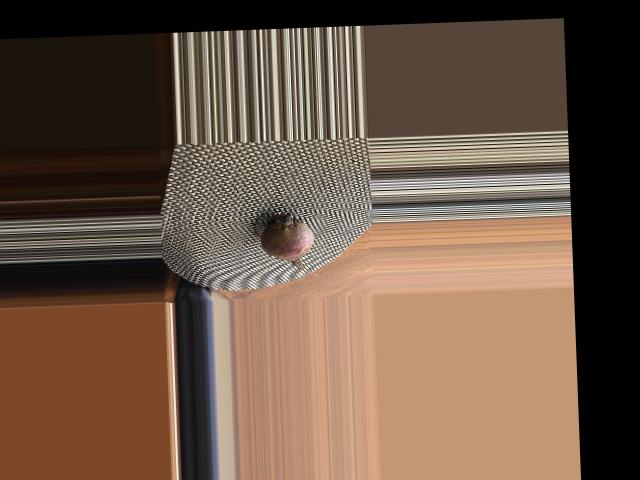beet: (252, 209, 323, 277)
